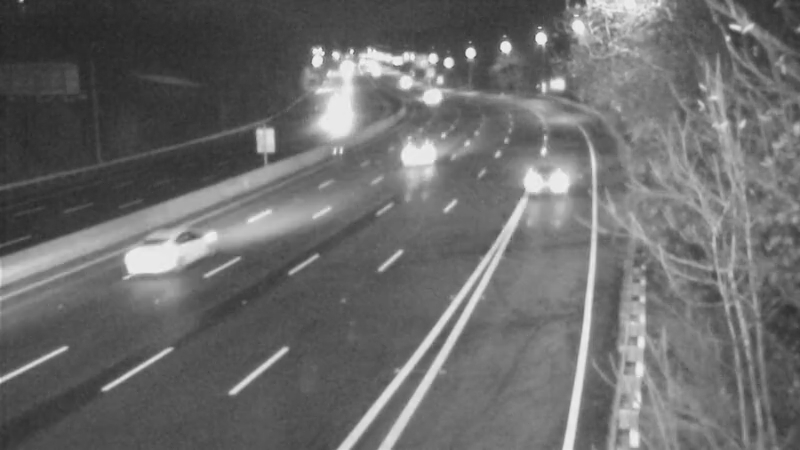vehicle: (381, 111, 461, 191), (511, 137, 591, 217), (108, 215, 188, 295), (402, 70, 452, 120), (316, 98, 366, 148)
